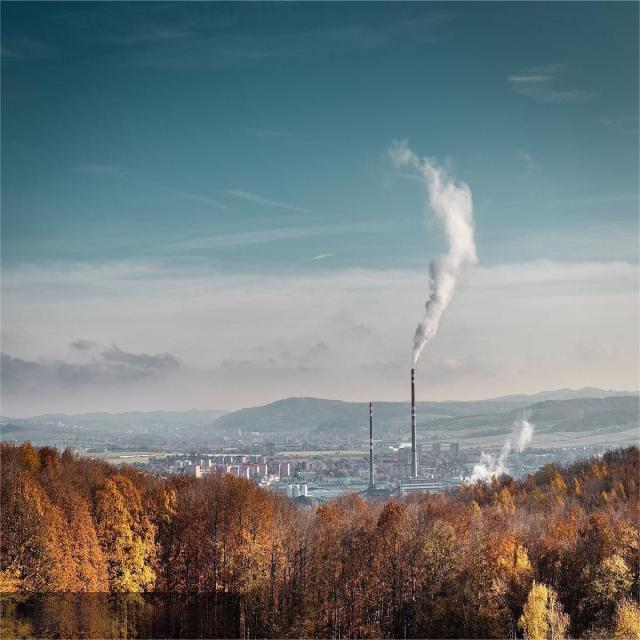Smoke: (394, 137, 478, 366)
